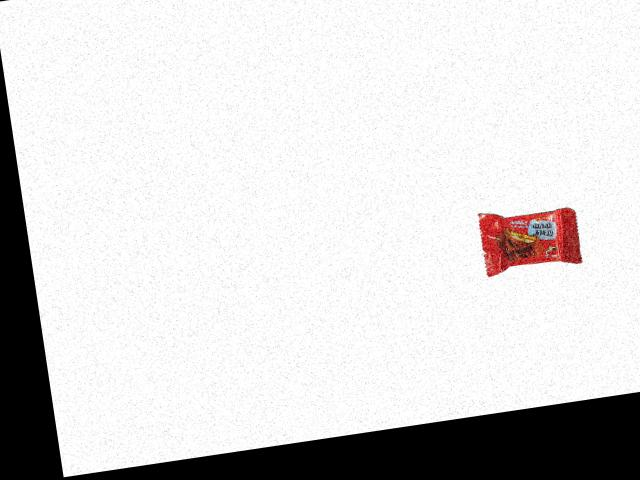chocolate: (475, 192, 591, 276)
